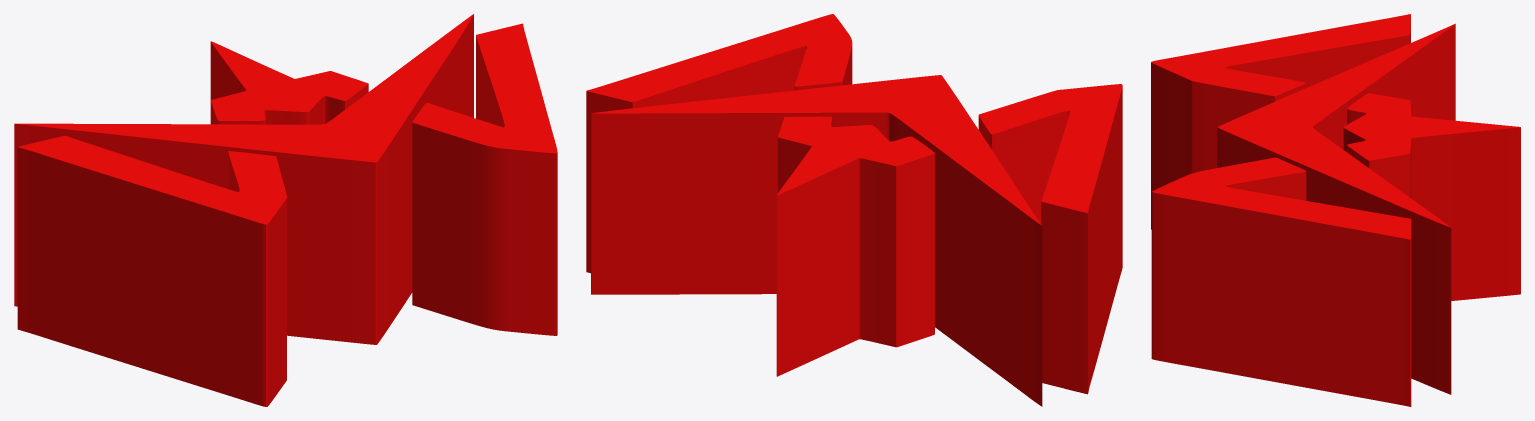
The model's file is acro.glb.
3 views of the same model, side by side, from view 1: azimuth 30°, elevation 25°; view 2: azimuth 150°, elevation 25°; view 3: azimuth 270°, elevation 25° (orthographic). The views are drawn at different scales.
Visible parts, largest first — view 1: imagetostl_mesh2, imagetostl_mesh0, imagetostl_mesh4, imagetostl_mesh1, imagetostl_mesh3, imagetostl_mesh5, imagetostl_mesh7, imagetostl_mesh6; view 2: imagetostl_mesh0, imagetostl_mesh6, imagetostl_mesh2, imagetostl_mesh1, imagetostl_mesh5, imagetostl_mesh3, imagetostl_mesh4, imagetostl_mesh7; view 3: imagetostl_mesh4, imagetostl_mesh6, imagetostl_mesh0, imagetostl_mesh2, imagetostl_mesh1, imagetostl_mesh3, imagetostl_mesh5, imagetostl_mesh7.
Boxes of the visible parts, x1,y1,x2,y2 form: imagetostl_mesh2: (17,147,286,406); imagetostl_mesh0: (14,14,473,344); imagetostl_mesh4: (412,36,557,335); imagetostl_mesh1: (15,14,473,162); imagetostl_mesh3: (18,135,286,224); imagetostl_mesh5: (412,23,557,153); imagetostl_mesh7: (210,41,368,120); imagetostl_mesh6: (210,42,368,124); imagetostl_mesh0: (591,112,1042,406); imagetostl_mesh6: (776,119,934,376); imagetostl_mesh2: (978,87,1122,394); imagetostl_mesh1: (591,75,1041,225); imagetostl_mesh5: (586,14,852,102); imagetostl_mesh3: (978,84,1122,212); imagetostl_mesh4: (586,45,852,273); imagetostl_mesh7: (777,116,934,195); imagetostl_mesh4: (1151,171,1411,406); imagetostl_mesh6: (1343,109,1520,300); imagetostl_mesh0: (1217,24,1455,394); imagetostl_mesh2: (1151,25,1410,229); imagetostl_mesh1: (1217,24,1454,227); imagetostl_mesh3: (1151,14,1410,96); imagetostl_mesh5: (1152,157,1411,239); imagetostl_mesh7: (1343,93,1520,160).
Size of the model in its own units: 57.97 by 20 by 40.1.
